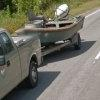Car: (2, 21, 45, 100)
